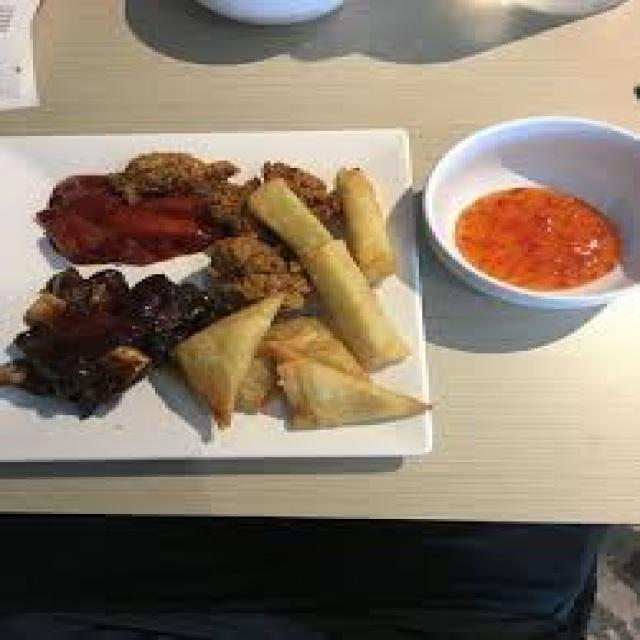Samosa: (172, 292, 432, 432)
Spring Rolls: (248, 158, 412, 356)
